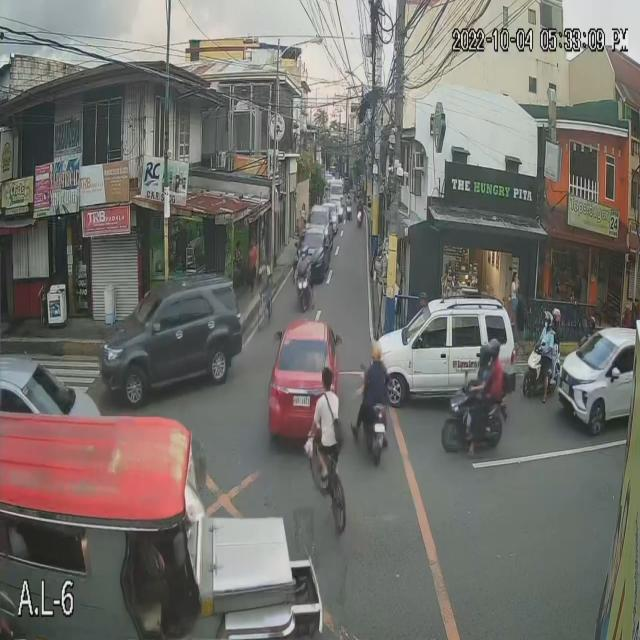full: (488, 334, 501, 360), (478, 338, 489, 366)
half: (542, 308, 554, 328), (371, 342, 382, 363)
